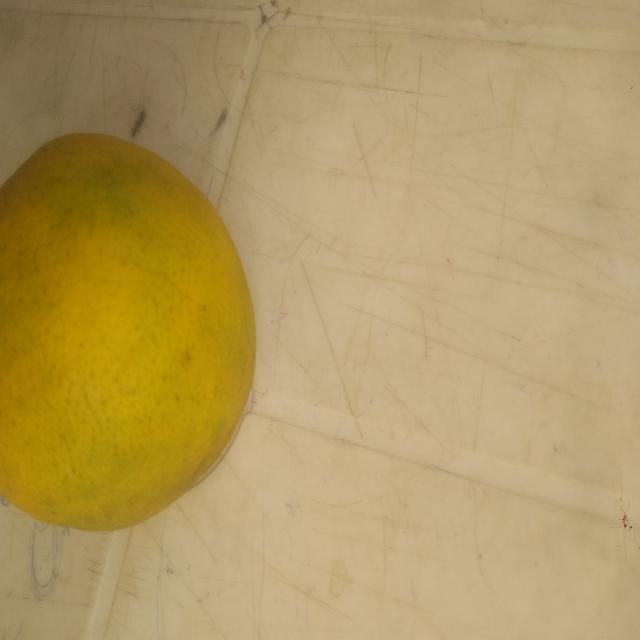Ripe orange: (0, 78, 275, 595)
